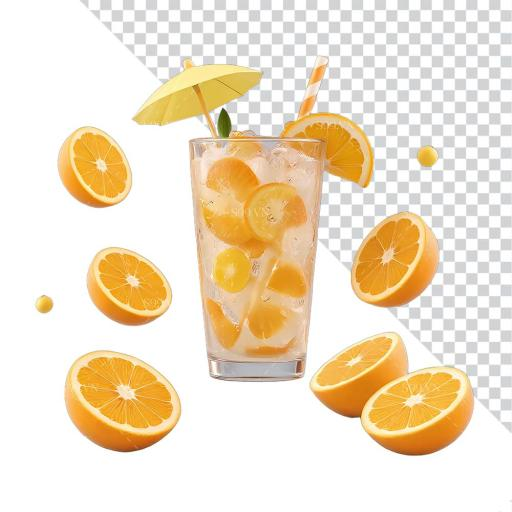cup: (190, 136, 325, 381), (239, 239, 266, 260), (253, 264, 261, 275)
